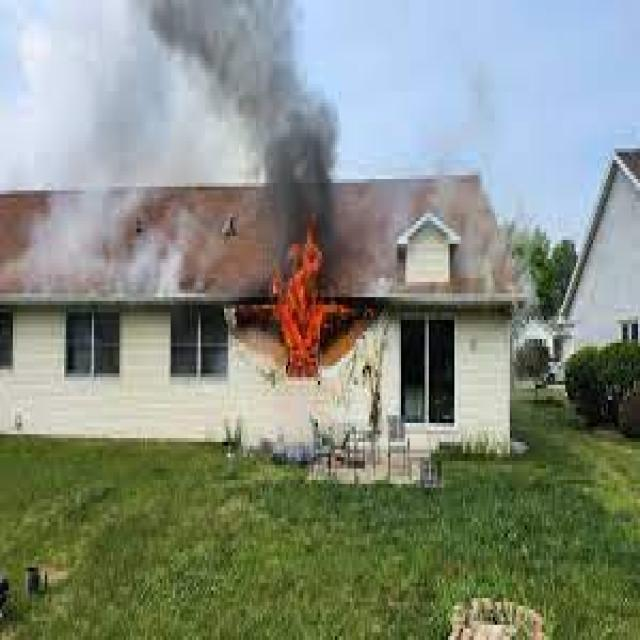Fire: (277, 257, 329, 378)
Smoke: (172, 0, 340, 256)
